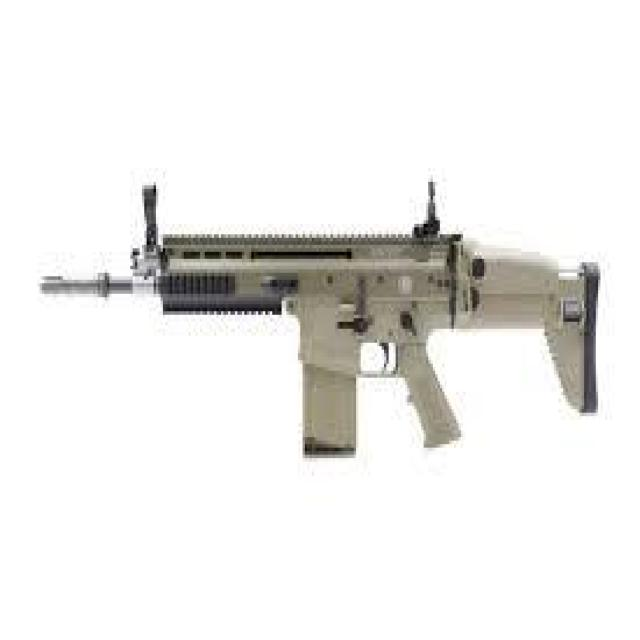Gun: (26, 169, 614, 470)
